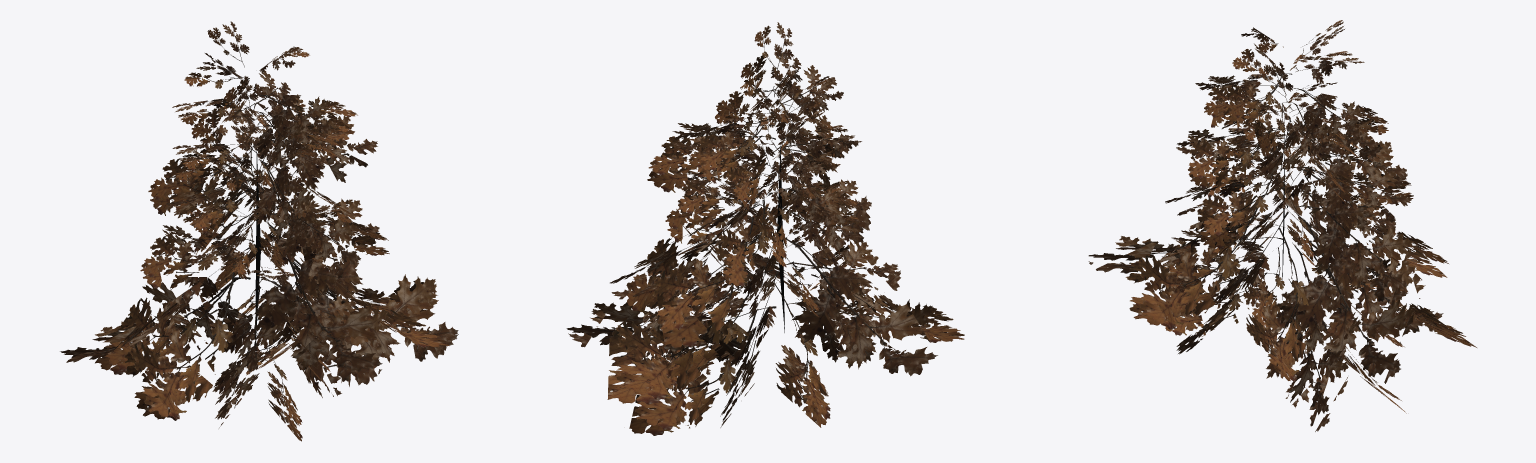
File: spruce5 lod3.FBX
3 views of the same model, side by side, from view 1: azimuth 30°, elevation 25°; view 2: azimuth 150°, elevation 25°; view 3: azimuth 270°, elevation 25° (orthographic). The views are drawn at different scales.
Parts seen in each view (by area): view 1: spruce5_LOD3; view 2: spruce5_LOD3; view 3: spruce5_LOD3.
Part boxes in pixels (x1,y1,x2,y2): spruce5_LOD3: (60, 21, 458, 441); spruce5_LOD3: (566, 22, 964, 435); spruce5_LOD3: (1088, 20, 1476, 431).
Bounding box in the file's own units: 130413 × 118397 × 136959.
